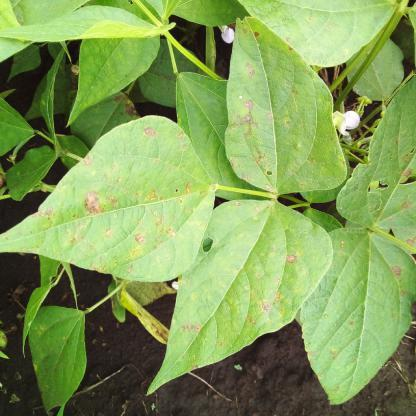Beans_Angular_LeafSpot: (146, 196, 340, 392), (7, 113, 213, 281), (226, 19, 342, 195), (301, 249, 409, 383), (348, 64, 416, 250)
